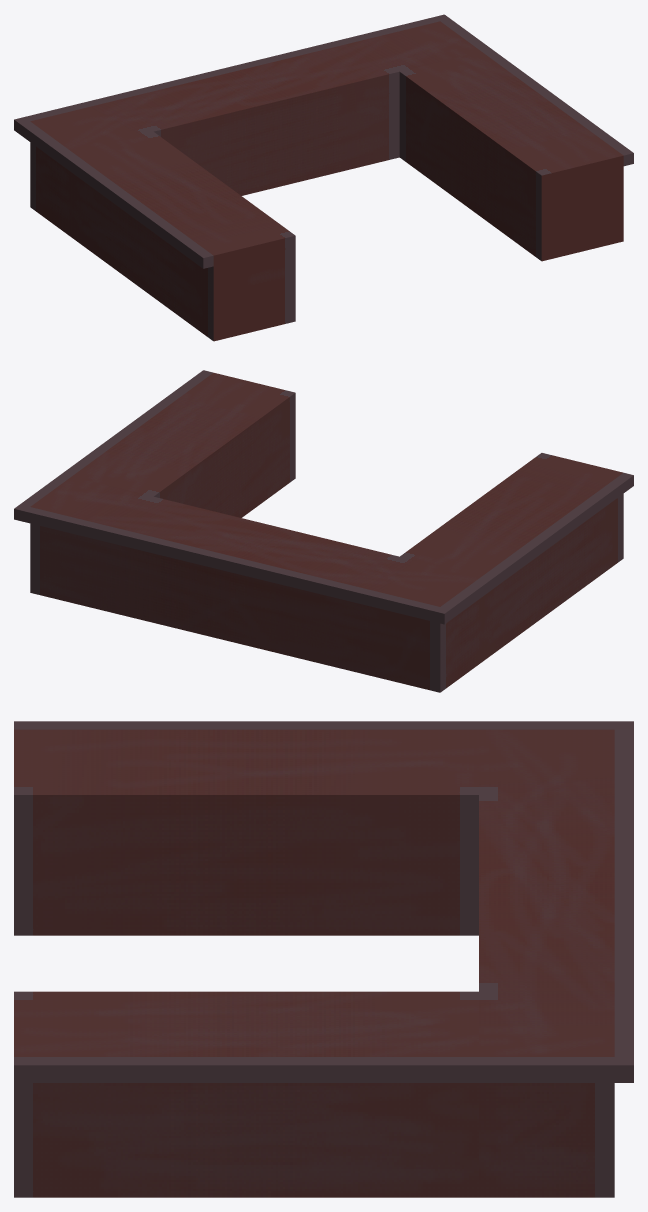
The model's file is frontdesk.gltf.
3 renders of one model, top to bottom at view 1: azimuth 30°, elevation 25°; view 2: azimuth 150°, elevation 25°; view 3: azimuth 270°, elevation 25°, orthographic. The views are drawn at different scales.
Parts seen in each view (by area): view 1: cube (×6); view 2: cube (×6); view 3: cube (×6).
Boxes of the visible parts, <box> form: cube (×6): <box>14,14,633,341</box>; cube (×6): <box>14,370,633,692</box>; cube (×6): <box>14,721,633,1197</box>.
Bounding box in the file's own units: 5.25 × 1 × 4.
1 material, 1 textured.
